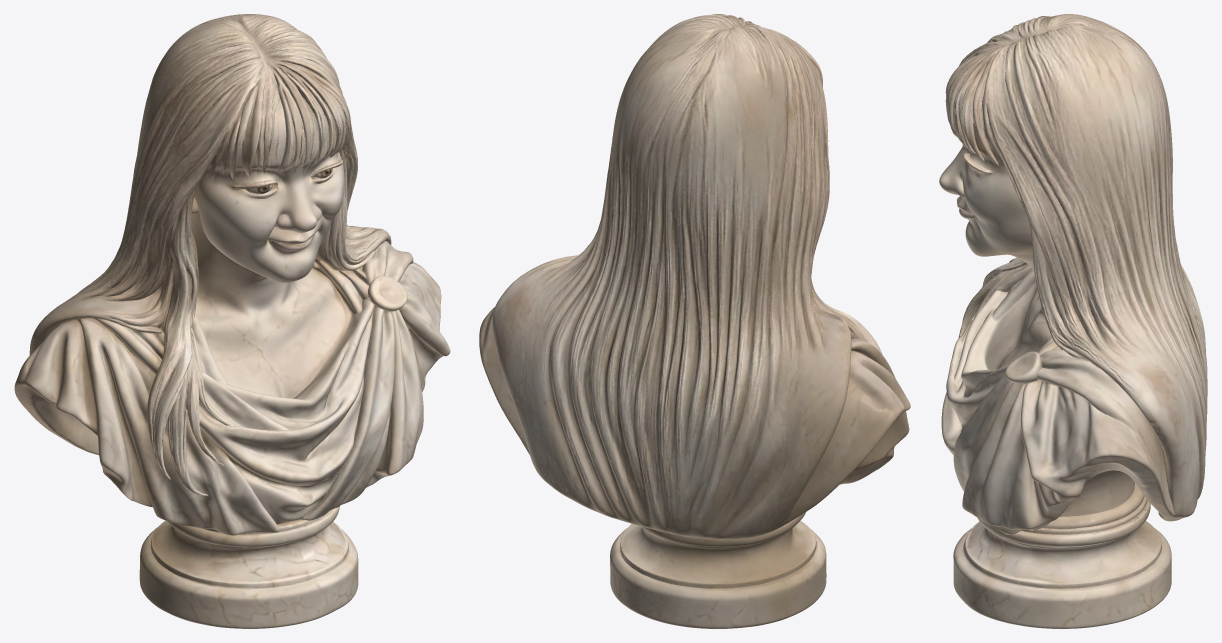
File: 12_송예준.compressed.glb
The picture shows the model from 3 angles, left to right: view 1: azimuth 30°, elevation 25°; view 2: azimuth 150°, elevation 25°; view 3: azimuth 270°, elevation 25°; orthographic projection.
Parts seen in each view (by area): view 1: model; view 2: model; view 3: model.
Boxes of the visible parts, <box> form: model: <box>14,14,450,628</box>; model: <box>479,14,910,628</box>; model: <box>939,14,1207,628</box>.
Bounding box in the file's own units: 1.46 × 1.9 × 0.8263.
Materials: 1 (1 with a texture image).
